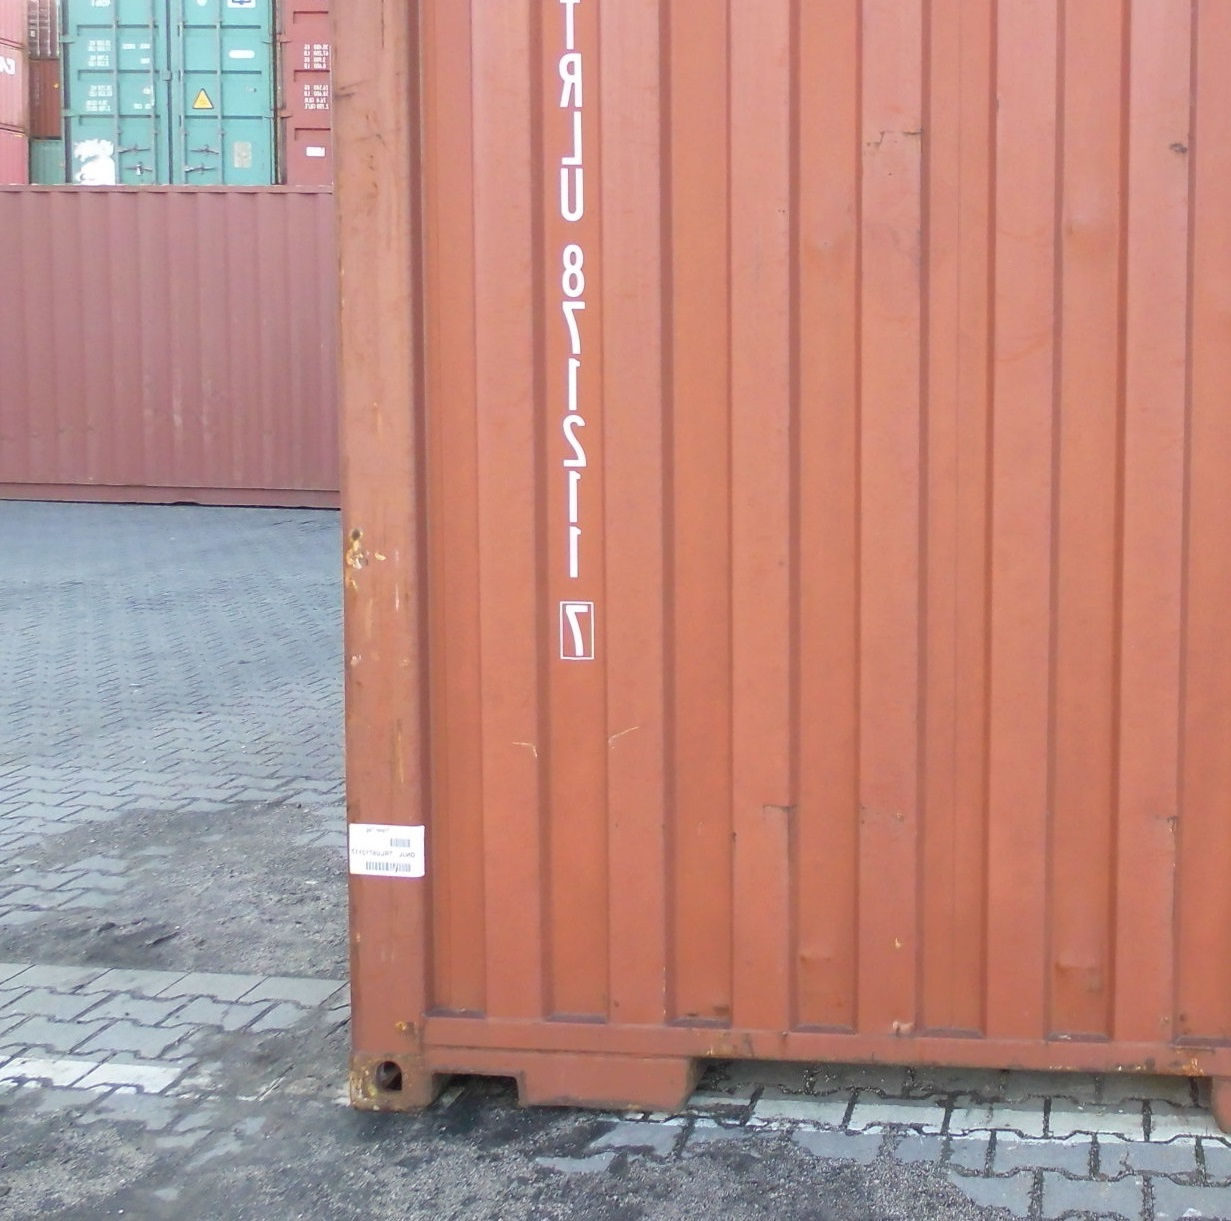container_door: (64, 1, 281, 176)
container_no_door: (321, 1, 1230, 1124)
